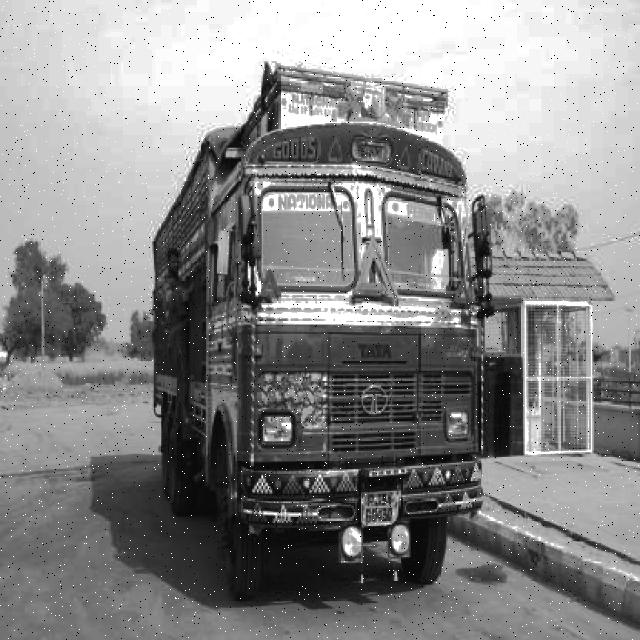HCV: (122, 162, 489, 578)
